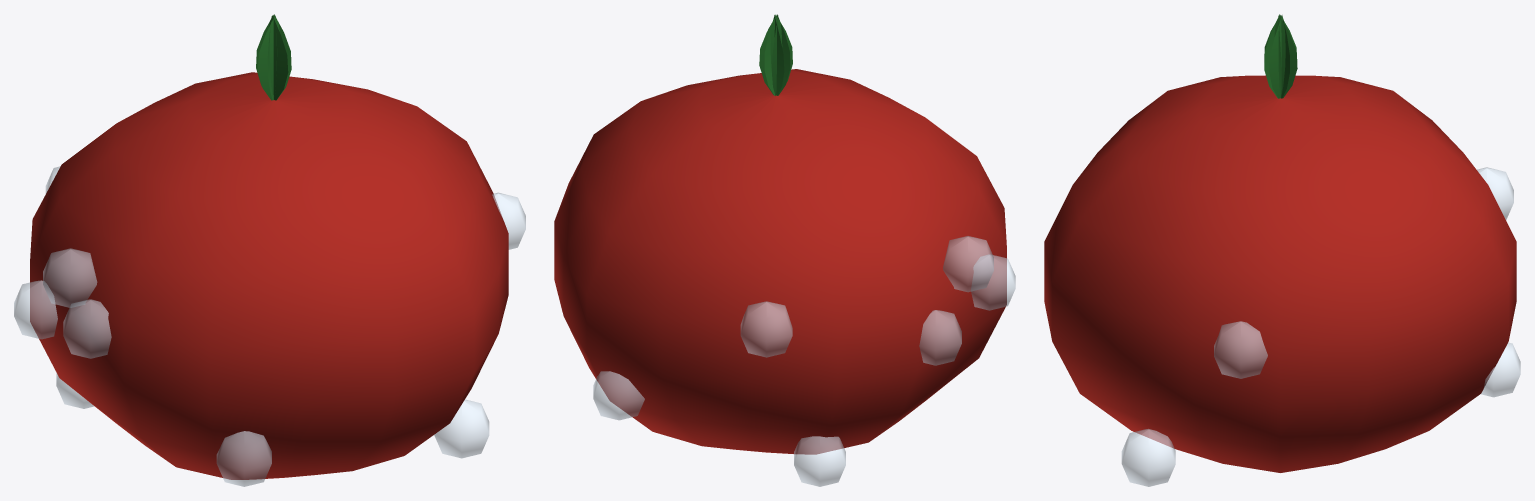
File: fruit-tomato-wet.gltf
3 renders of one model, left to right at view 1: azimuth 30°, elevation 25°; view 2: azimuth 150°, elevation 25°; view 3: azimuth 270°, elevation 25°, orthographic. The views are drawn at different scales.
Bounding box in the file's own units: 0.4369 × 0.3964 × 0.3973.
